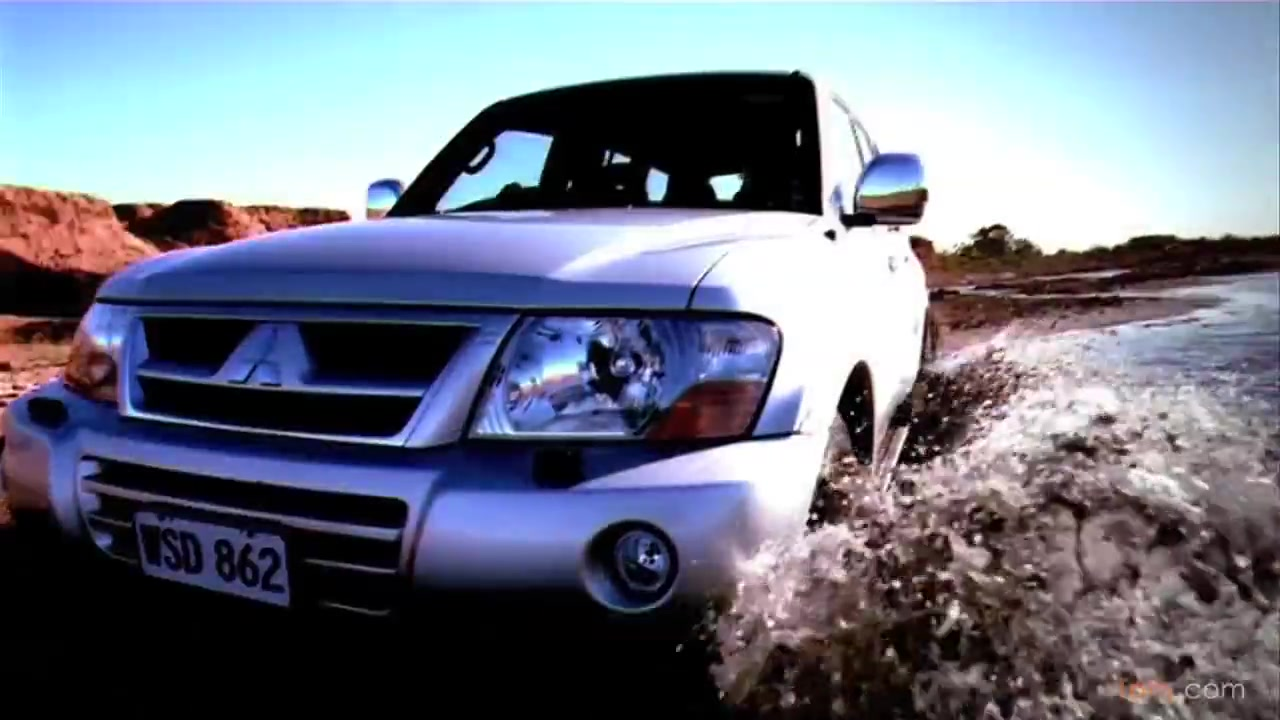car: (3, 68, 938, 654)
